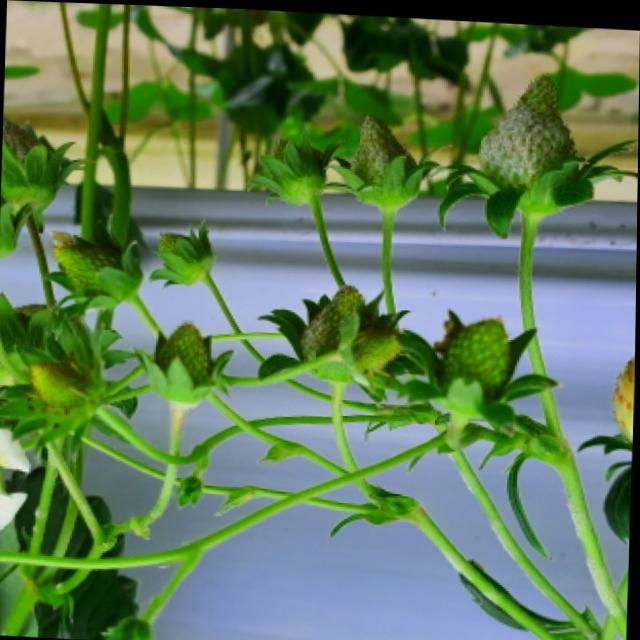Powdery Mildew Fruit: (474, 71, 580, 197), (346, 111, 421, 198), (0, 112, 59, 200)
